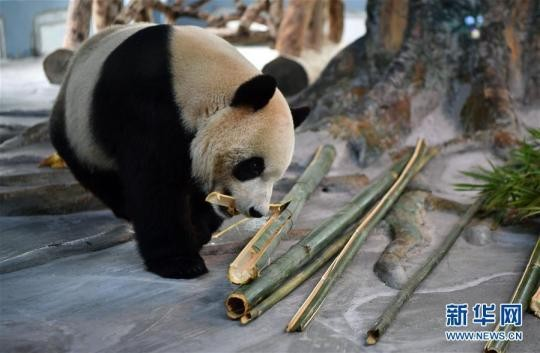panda: (39, 21, 298, 276)
